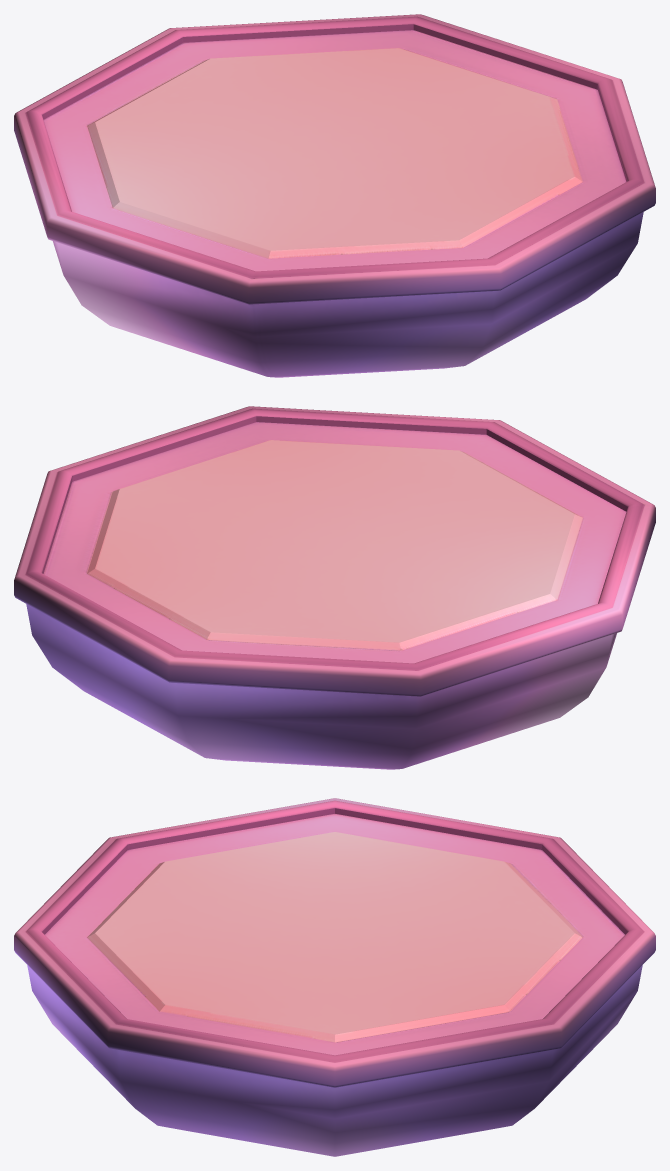
File: platform_02.glb
3 views of the same model, one above another, from view 1: azimuth 30°, elevation 25°; view 2: azimuth 150°, elevation 25°; view 3: azimuth 270°, elevation 25° (orthographic). The views are drawn at different scales.
Visible parts, largest first — view 1: platform; view 2: platform; view 3: platform.
Boxes of the visible parts, <box> form: platform: <box>14,14,655,377</box>; platform: <box>14,406,655,769</box>; platform: <box>14,798,655,1156</box>.
Size of what is drawn, in the model's own units: 8.27 by 2.05 by 8.27.
1 material, 1 textured.
